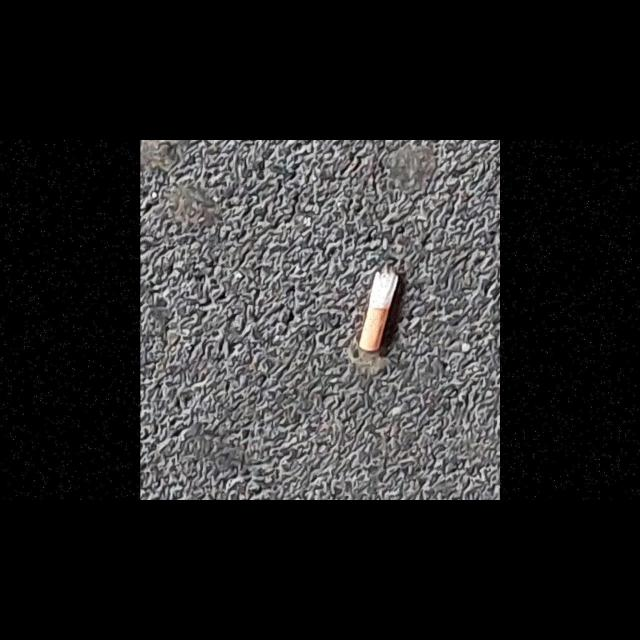cigarette: (357, 271, 400, 352)
